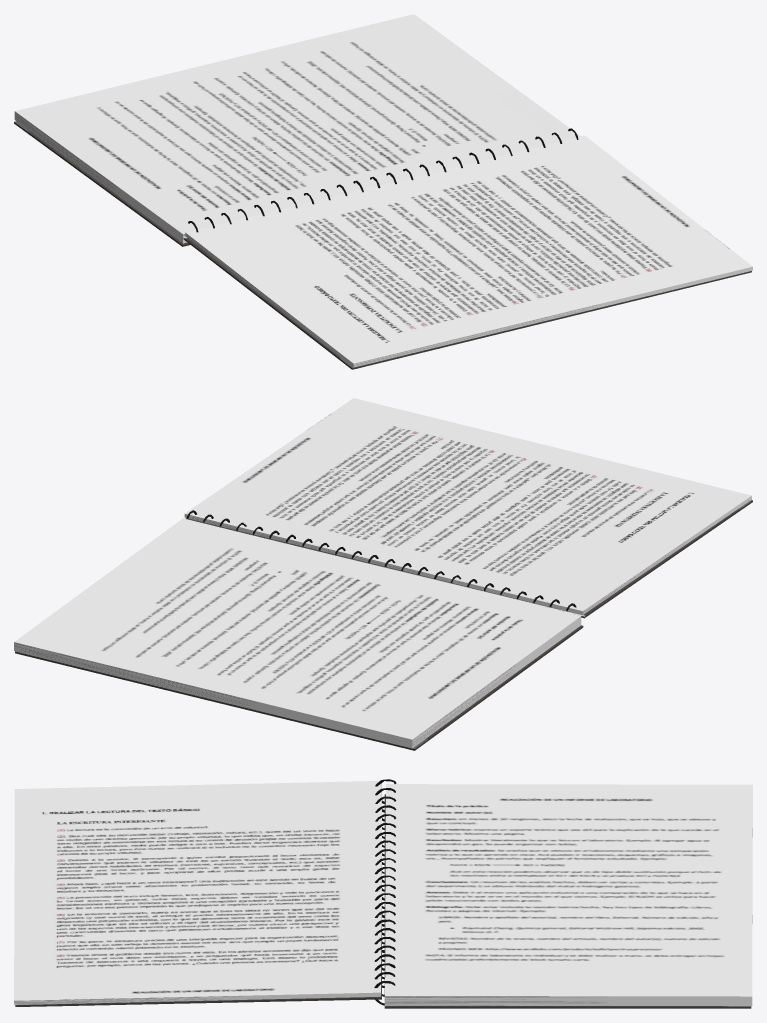
Rendered from Notebook 2.FBX.
3 renders of one model, top to bottom at view 1: azimuth 30°, elevation 25°; view 2: azimuth 150°, elevation 25°; view 3: azimuth 270°, elevation 25°, orthographic. The views are drawn at different scales.
Parts seen in each view (by area): view 1: notebook 2; view 2: notebook 2; view 3: notebook 2.
Part boxes in pixels (x1,y1,x2,y2): notebook 2: (14,14,752,369); notebook 2: (14,398,752,750); notebook 2: (14,779,752,1008).
Size of the model in its own units: 27.07 by 1.49 by 39.76.
Materials: 1 (1 with a texture image).
